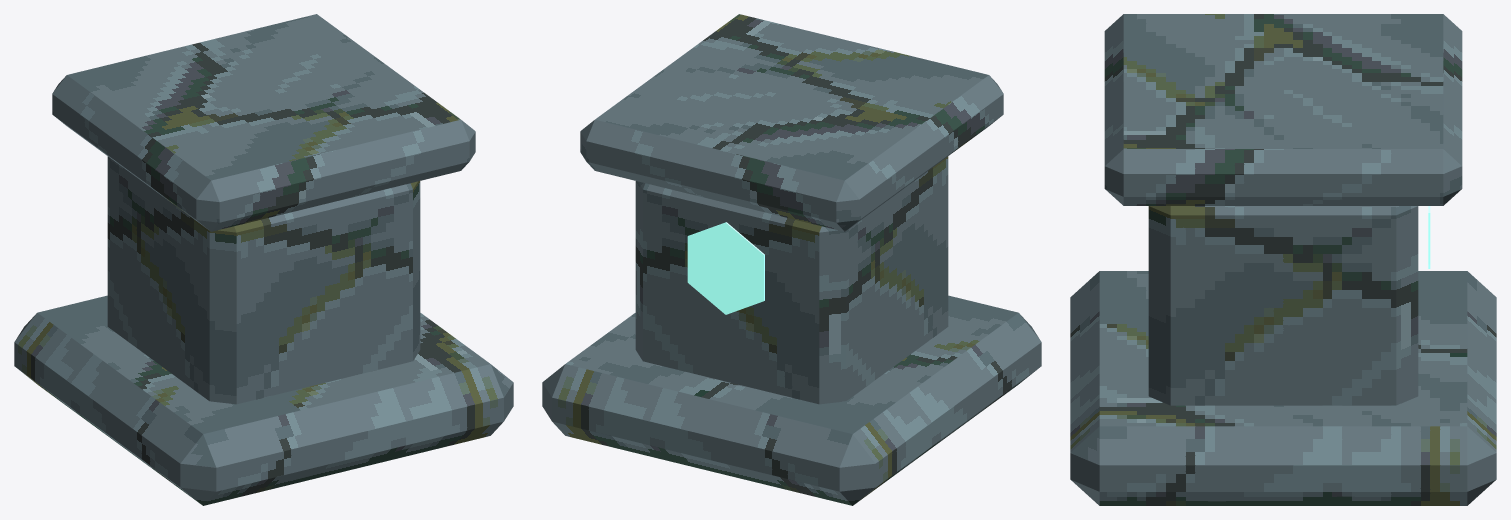
The model's file is totem_dominio.fbx.
3 views of the same model, side by side, from view 1: azimuth 30°, elevation 25°; view 2: azimuth 150°, elevation 25°; view 3: azimuth 270°, elevation 25° (orthographic). The views are drawn at different scales.
Visible parts, largest first — view 1: bosque_totem_dominio; view 2: bosque_totem_dominio; view 3: bosque_totem_dominio.
Boxes of the visible parts, box(x1,y1,x2,y2) form: bosque_totem_dominio: box(14, 14, 513, 505); bosque_totem_dominio: box(542, 14, 1041, 505); bosque_totem_dominio: box(1070, 14, 1496, 505).
Bounding box in the file's own units: 68 × 61 × 68.
Materials: 2 (1 with a texture image).
